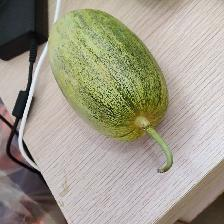gua: (49, 24, 159, 139)
